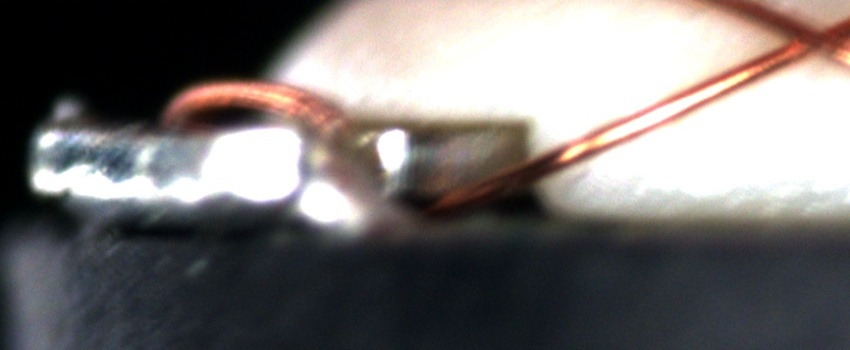CL: (760, 5, 844, 68)
TE: (149, 70, 370, 137)
